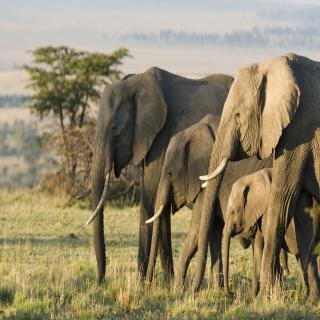Elephant: (75, 63, 254, 300), (188, 45, 320, 304), (141, 108, 280, 308), (221, 164, 320, 308)
